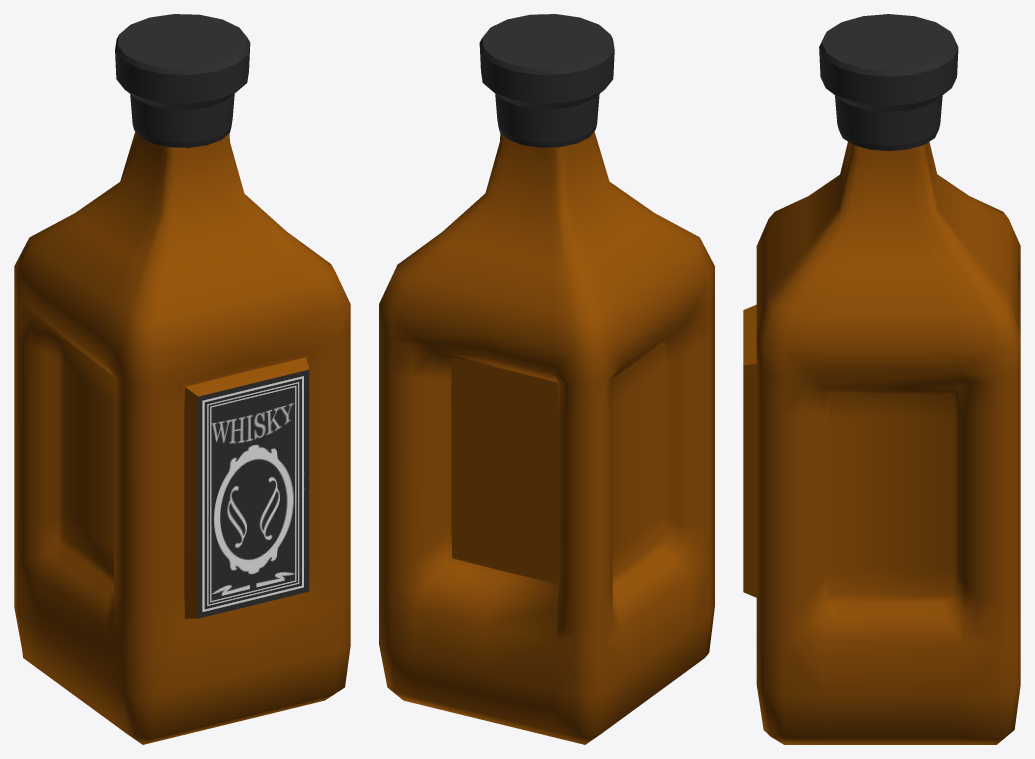
Rendered from ping_04.FBX.
The picture shows the model from 3 angles, left to right: view 1: azimuth 30°, elevation 25°; view 2: azimuth 150°, elevation 25°; view 3: azimuth 270°, elevation 25°; orthographic projection. The views are drawn at different scales.
Visible parts, largest first — view 1: ping_04; view 2: ping_04; view 3: ping_04.
Boxes of the visible parts, box(x1,y1,x2,y2) form: ping_04: box(14, 14, 350, 744); ping_04: box(379, 14, 714, 744); ping_04: box(743, 14, 1020, 744).
Size of the model in its own units: 505 by 1389 by 531.
1 material, 1 textured.
